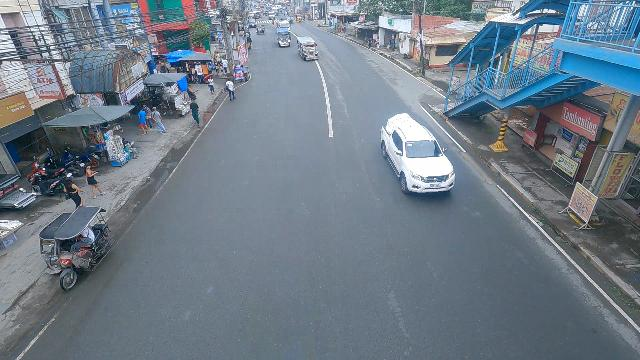car: (249, 18, 257, 28)
jeepney: (296, 37, 319, 62), (276, 28, 290, 48), (248, 10, 262, 20)
motorcycle: (272, 18, 275, 25)
pickup-truck: (375, 113, 458, 199)
truck: (277, 20, 290, 31)
van: (268, 12, 276, 20)
